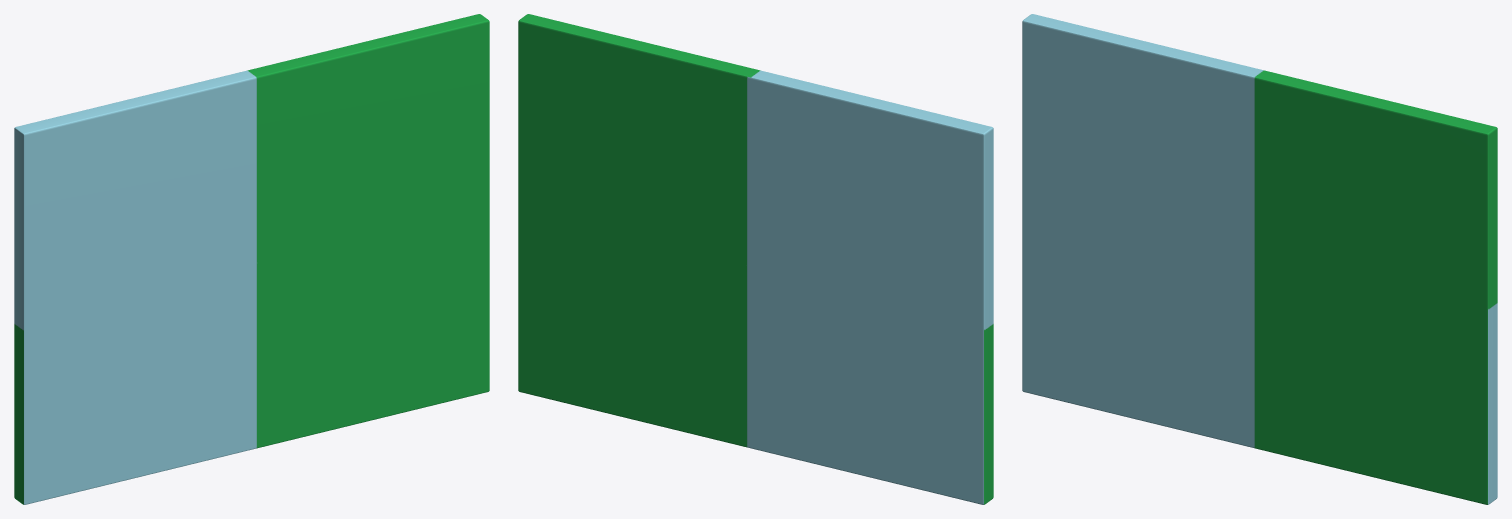
The model's file is kitchenWall.fbx.
3 views of the same model, side by side, from view 1: azimuth 30°, elevation 25°; view 2: azimuth 150°, elevation 25°; view 3: azimuth 330°, elevation 25° (orthographic).
Visible parts, largest first — view 1: kitchenWall; view 2: kitchenWall; view 3: kitchenWall.
Part boxes in pixels (x1,y1,x2,y2): kitchenWall: (14, 14, 489, 504); kitchenWall: (518, 14, 993, 504); kitchenWall: (1022, 14, 1497, 504).
Size of the model in its own units: 158 by 120 by 6.
